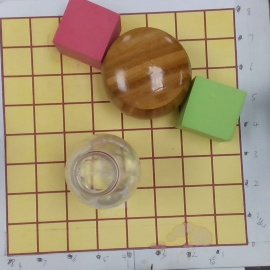bottle: (67, 135, 141, 207)
chess: (104, 28, 192, 118)
